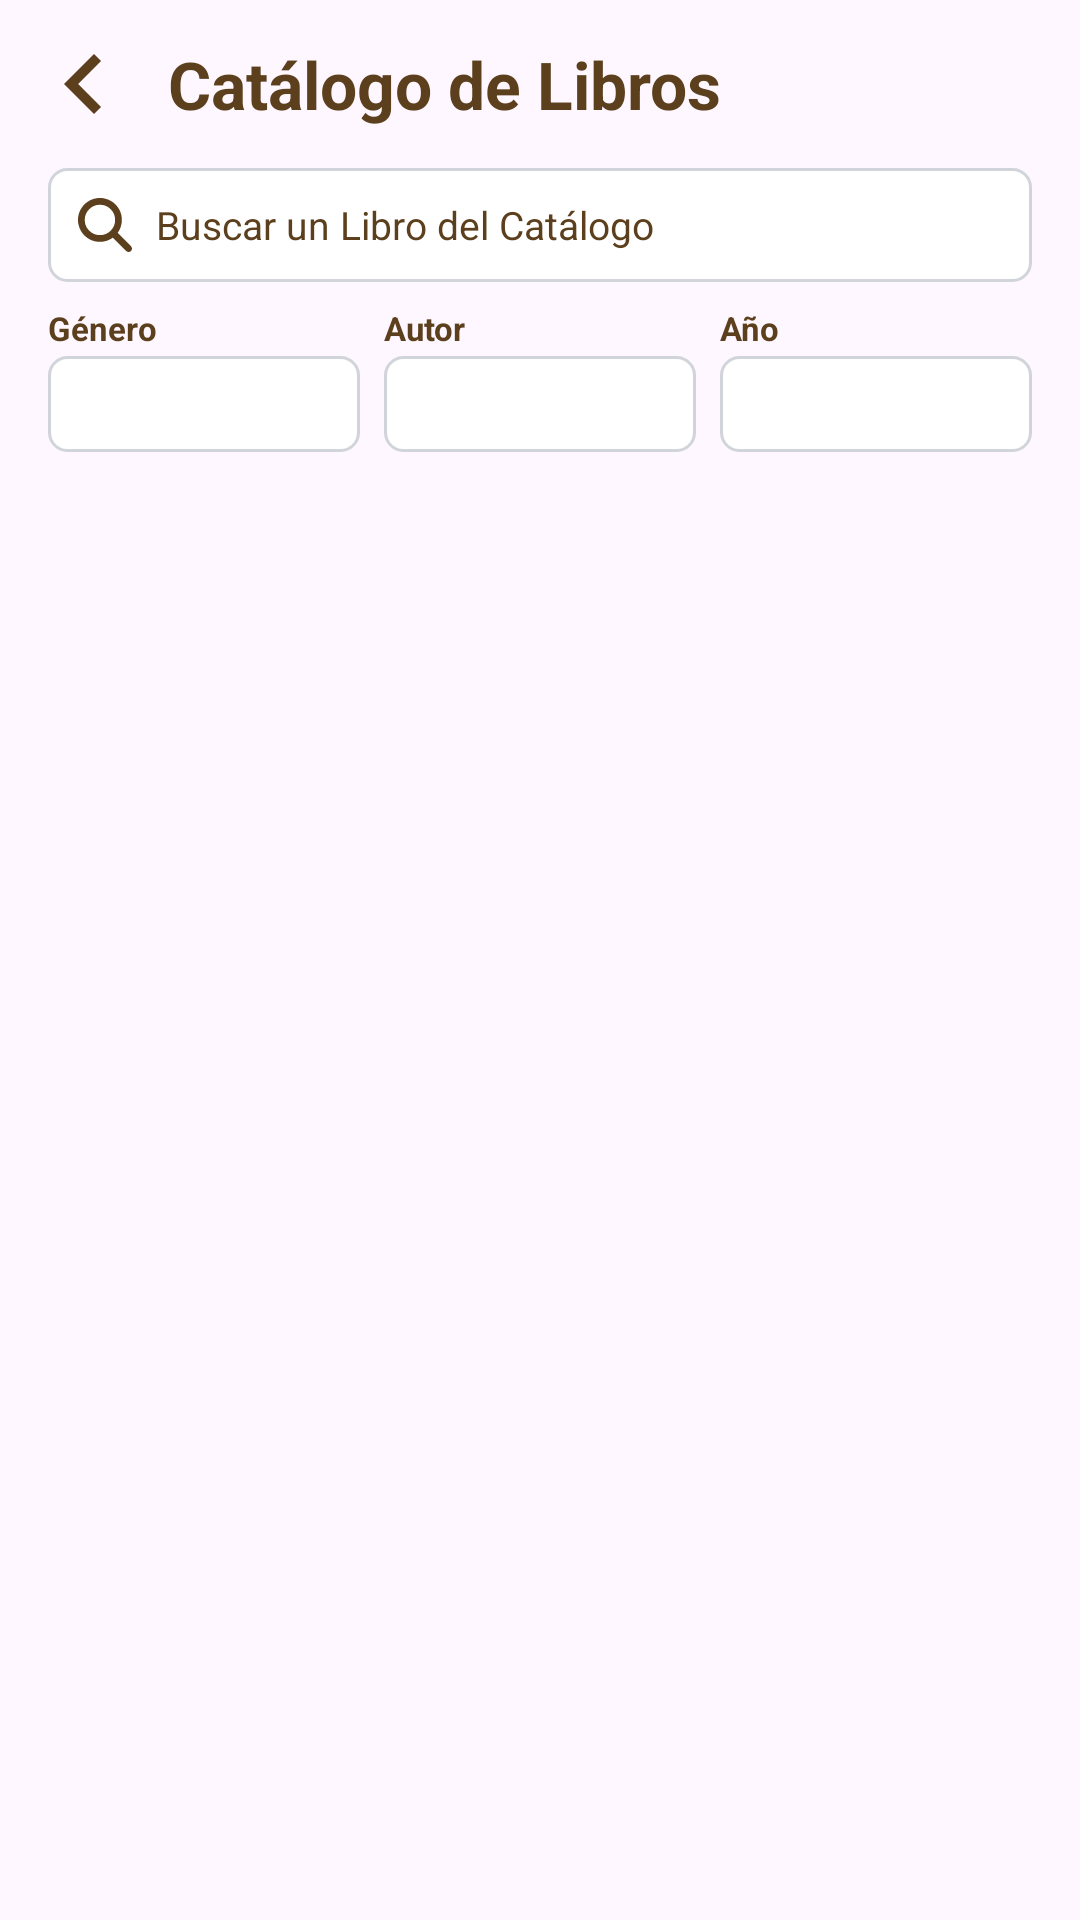

Icon bounding boxes for this 1080*1920 phone screenshot, format (x1, y1, x2, y2):
Regresar: (64, 54, 101, 114)
